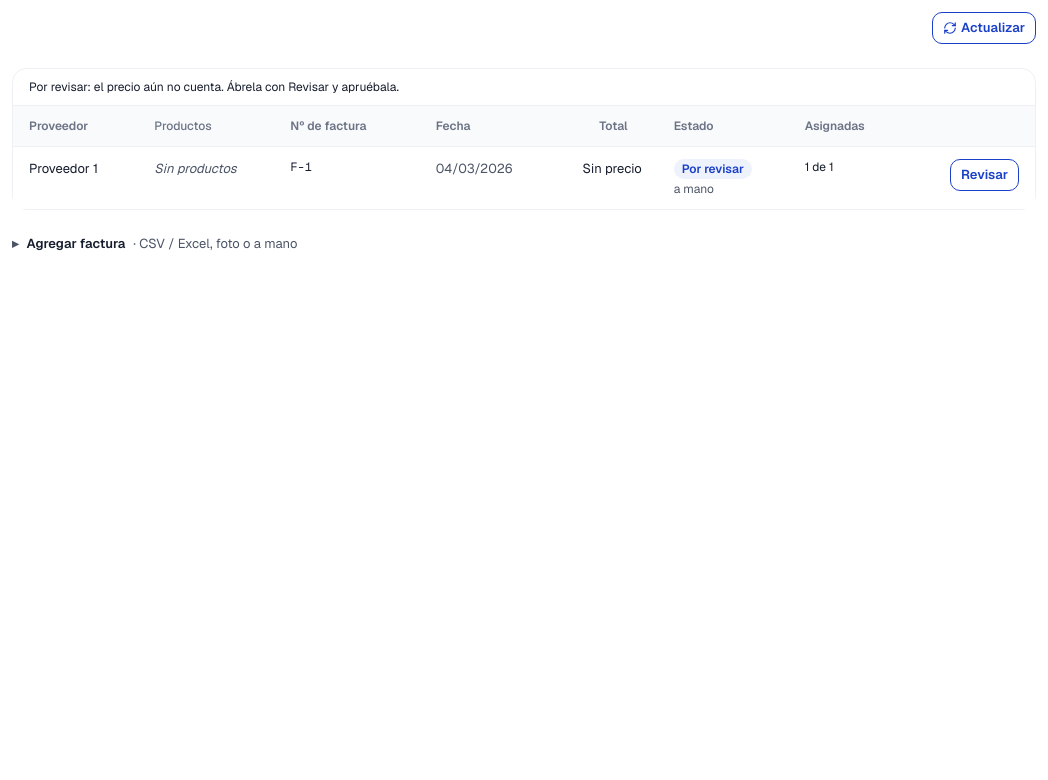
Test: Compras: the Revisar panel never shows $0 › unit_cost 0 and line_total 0: «Sin precio» in both cells
Click the button "Revisar".
click(985, 175)  # box top-left (950, 159), bottom-right (1019, 191)
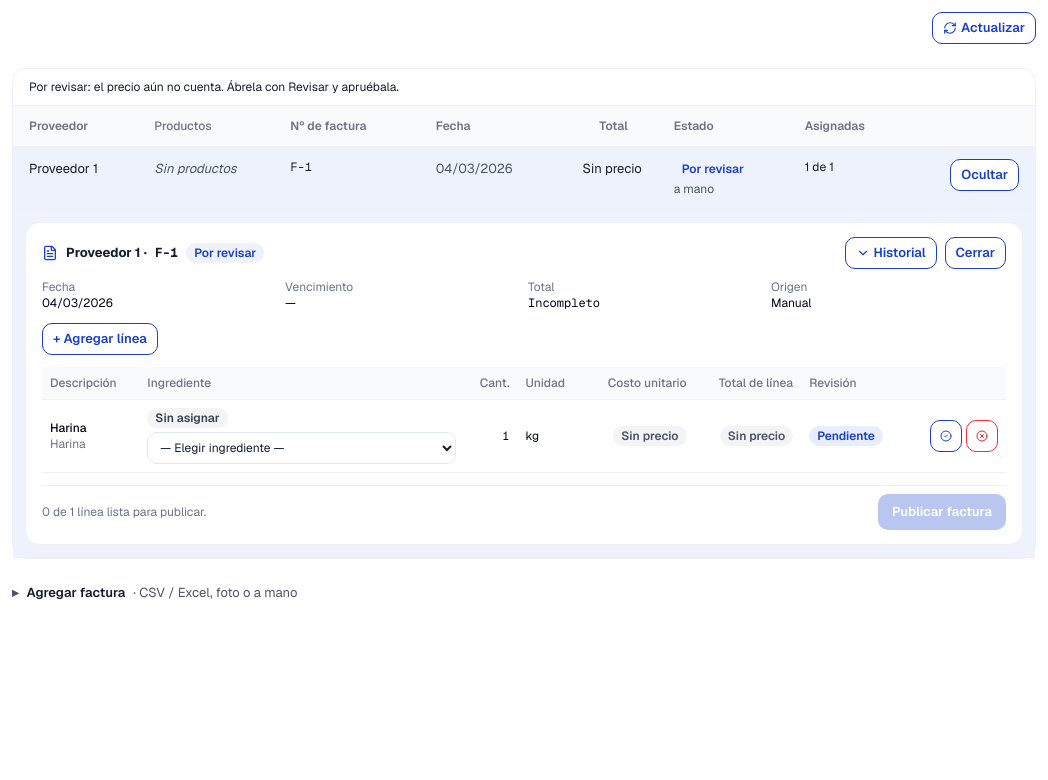
Check: the button "Publicar factura" is shown, box top-left (878, 494), bottom-right (1006, 530)
